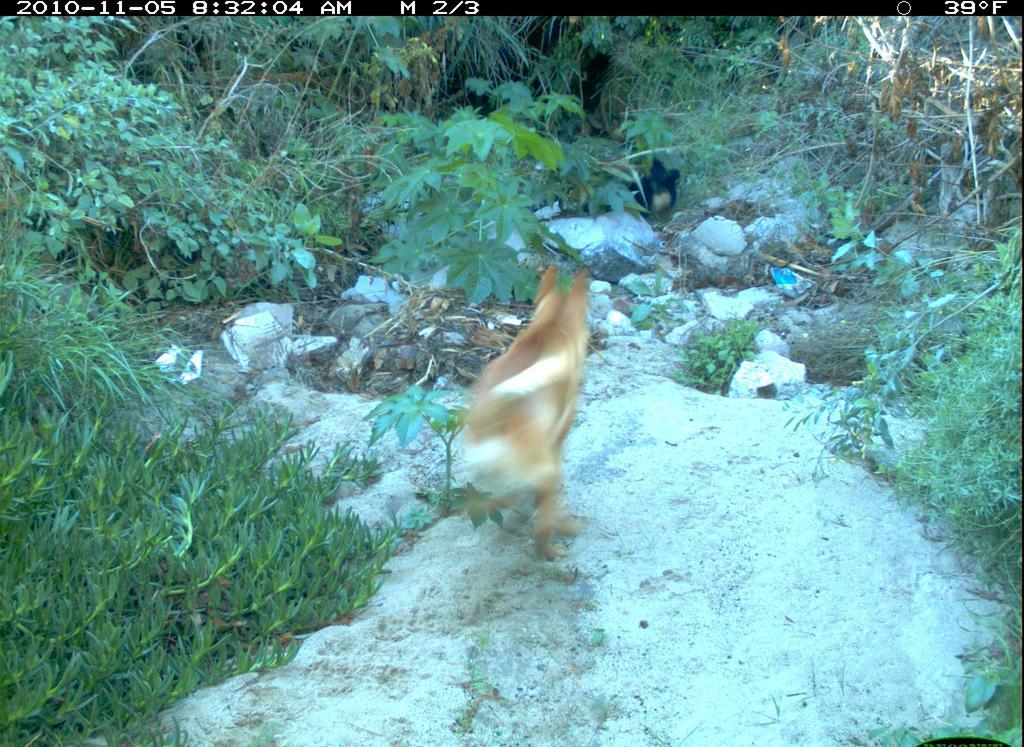dog: (440, 263, 615, 573)
